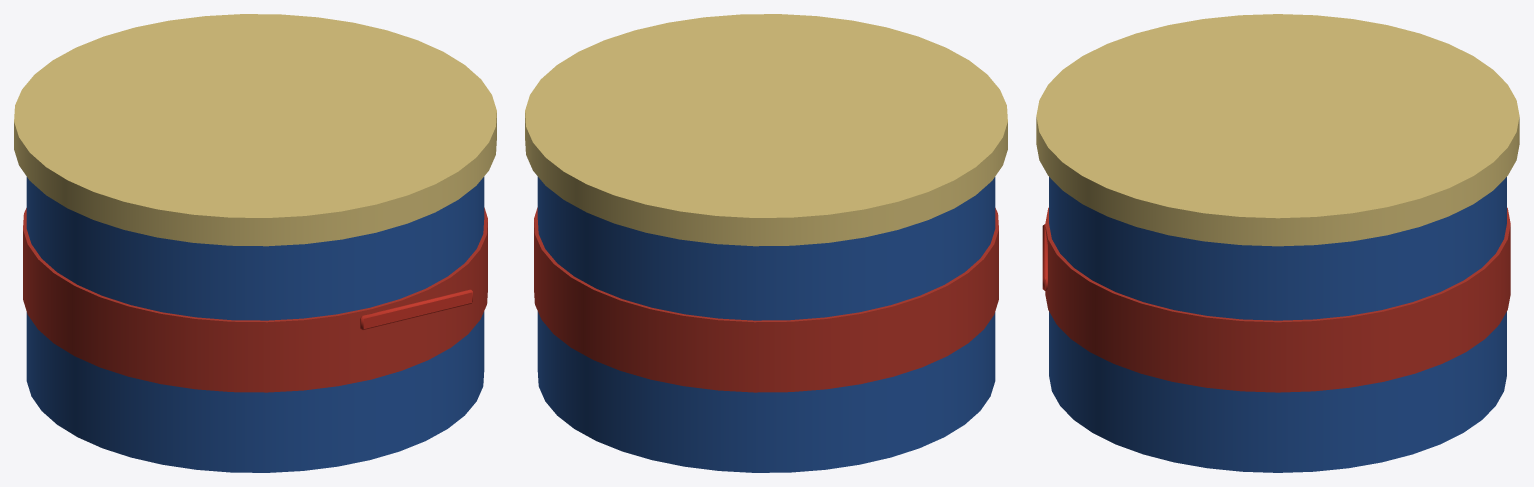
The model's file is HopBanhQuy_ThiecTaiDung.glb.
3 views of the same model, side by side, from view 1: azimuth 30°, elevation 25°; view 2: azimuth 150°, elevation 25°; view 3: azimuth 270°, elevation 25° (orthographic).
Visible parts, largest first — view 1: HopBanhQuy_ThiecTaiDung; view 2: HopBanhQuy_ThiecTaiDung; view 3: HopBanhQuy_ThiecTaiDung.
Boxes of the visible parts, x1=… form: HopBanhQuy_ThiecTaiDung: x1=14, y1=14, x2=496, y2=472; HopBanhQuy_ThiecTaiDung: x1=525, y1=14, x2=1007, y2=472; HopBanhQuy_ThiecTaiDung: x1=1036, y1=14, x2=1519, y2=472.
Bounding box in the file's own units: 0.1869 × 0.111 × 0.1869.
